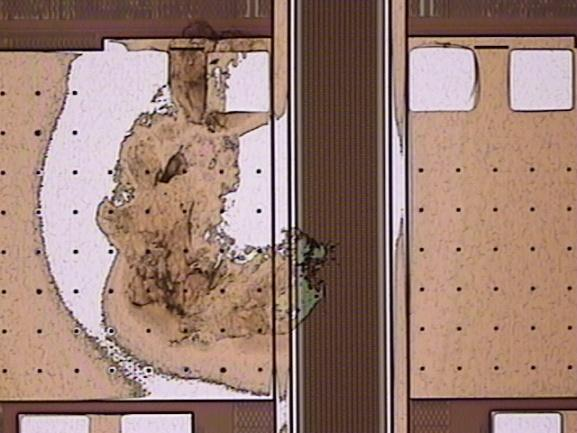COATING BAD: (33, 22, 334, 409)
